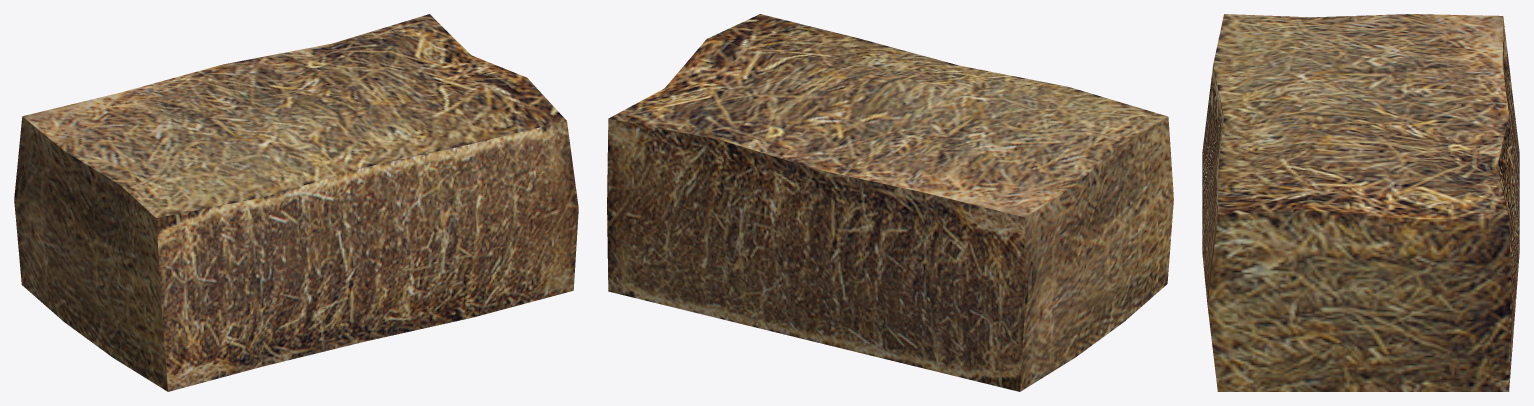
File: SenoBriket.FBX
3 renders of one model, left to right at view 1: azimuth 30°, elevation 25°; view 2: azimuth 150°, elevation 25°; view 3: azimuth 270°, elevation 25°, orthographic.
Parts seen in each view (by area): view 1: Seno_LOD0; view 2: Seno_LOD0; view 3: Seno_LOD0.
Part boxes in pixels (x1,y1,x2,y2): Seno_LOD0: (14, 14, 578, 391); Seno_LOD0: (607, 14, 1173, 391); Seno_LOD0: (1202, 14, 1519, 391).
Size of what is drawn, in the model's own units: 9 by 5.8 by 3.78.
